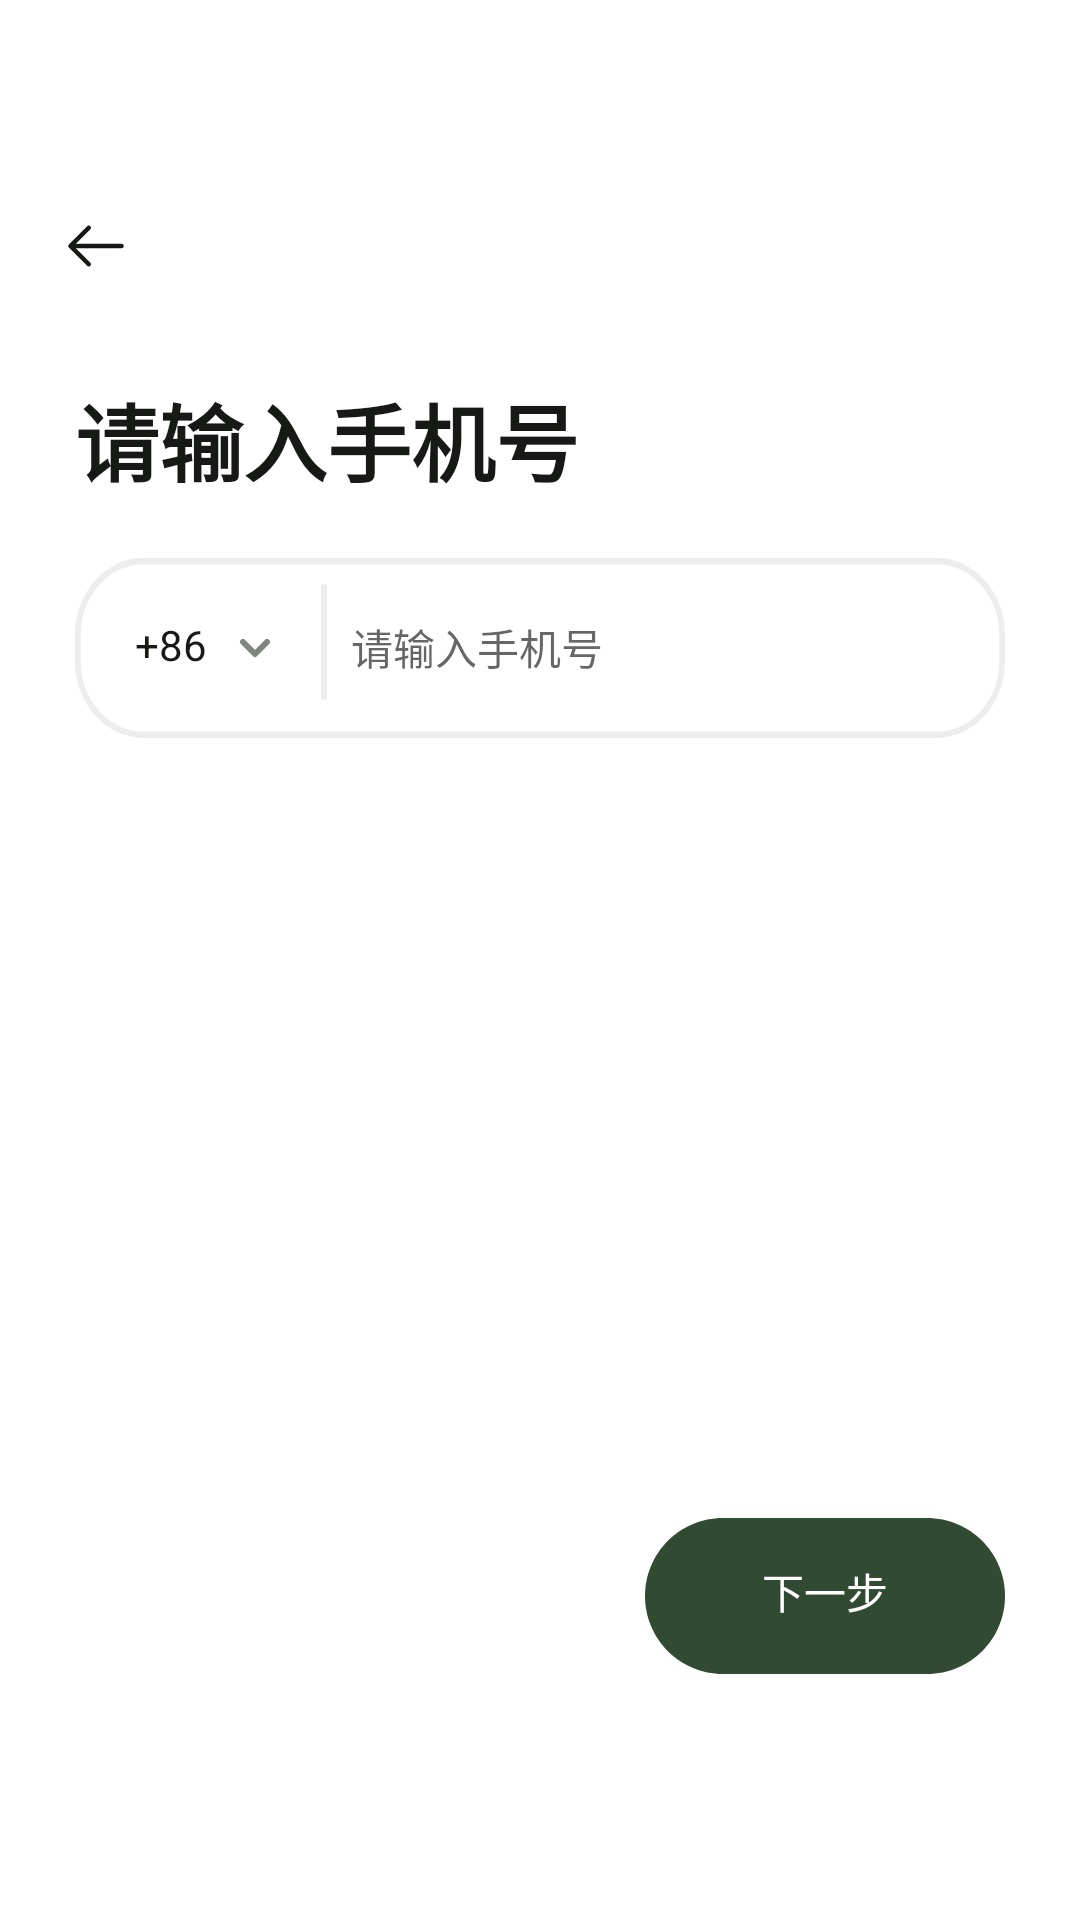

Named icons in this screenshot (1080w x 1920h) and their centers, [x,y]:
arrow left: [96,246]
